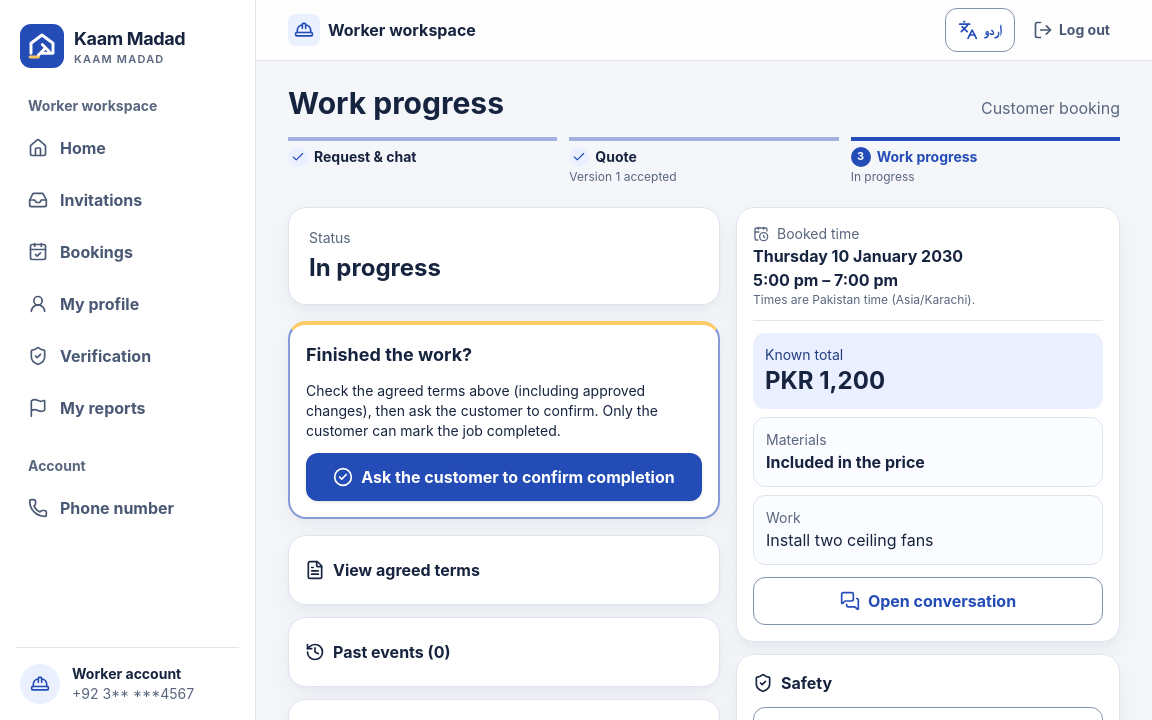
completion › worker asks the customer to confirm and then waits
Click the button "Ask the customer to confirm completion" at (504, 477), box [306,453,702,501]
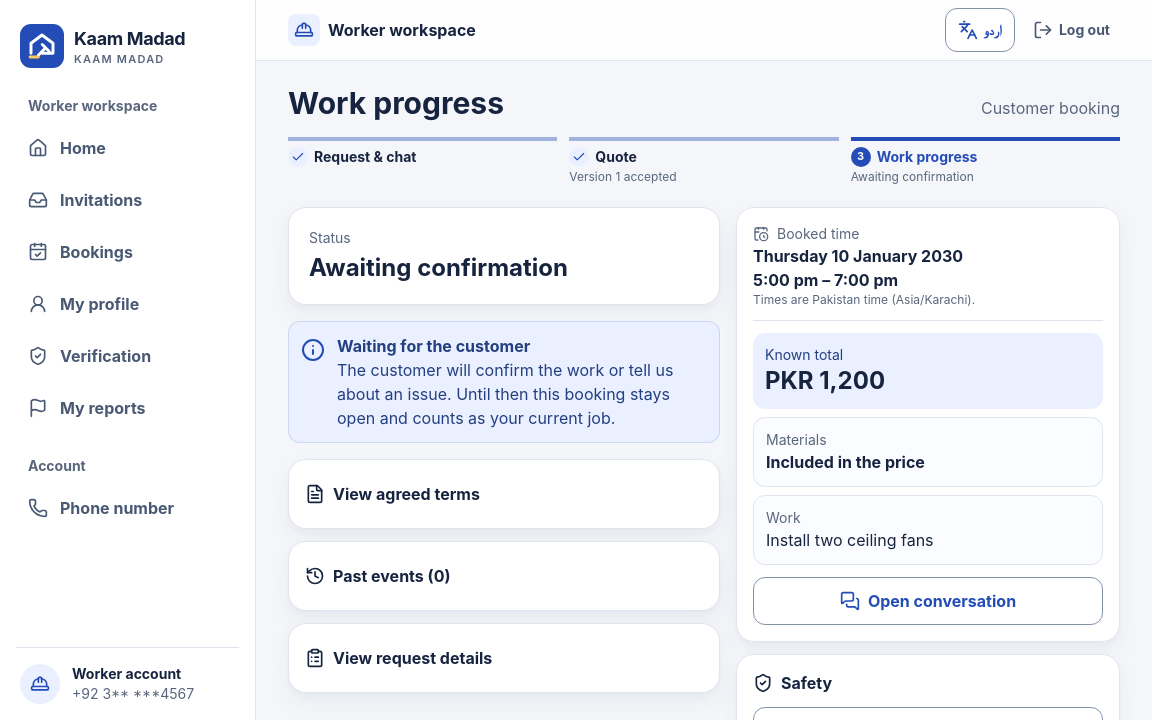
Check: the text "Waiting for the customer" is shown, box [337,336,530,356]
